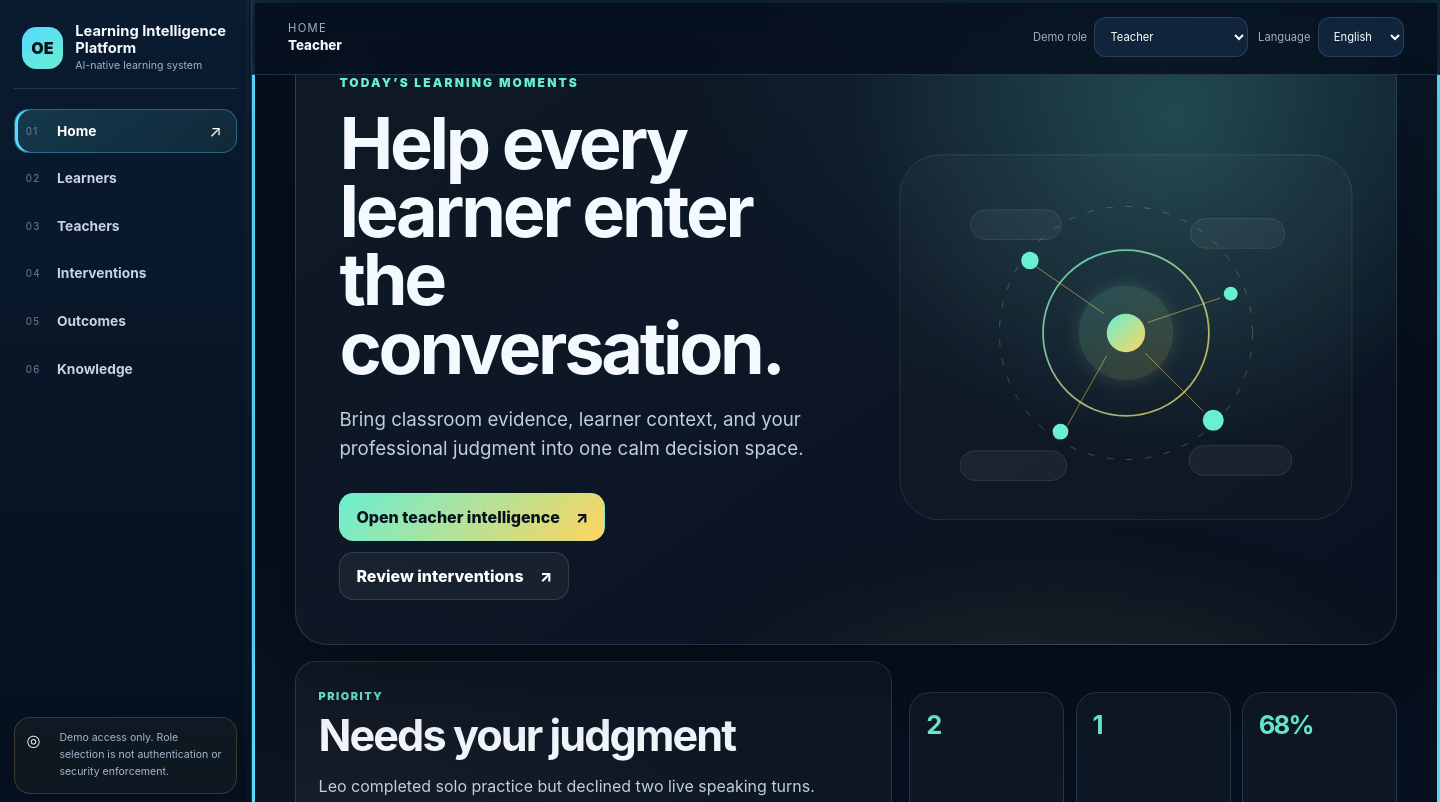
Test: P-001A cinematic role-aware shell › switches shell language
The image size is (1440, 802).
(page scrolled)
Select "Español" in the dropdown labelled "Language": (1361, 37) [1318, 17, 1404, 58]
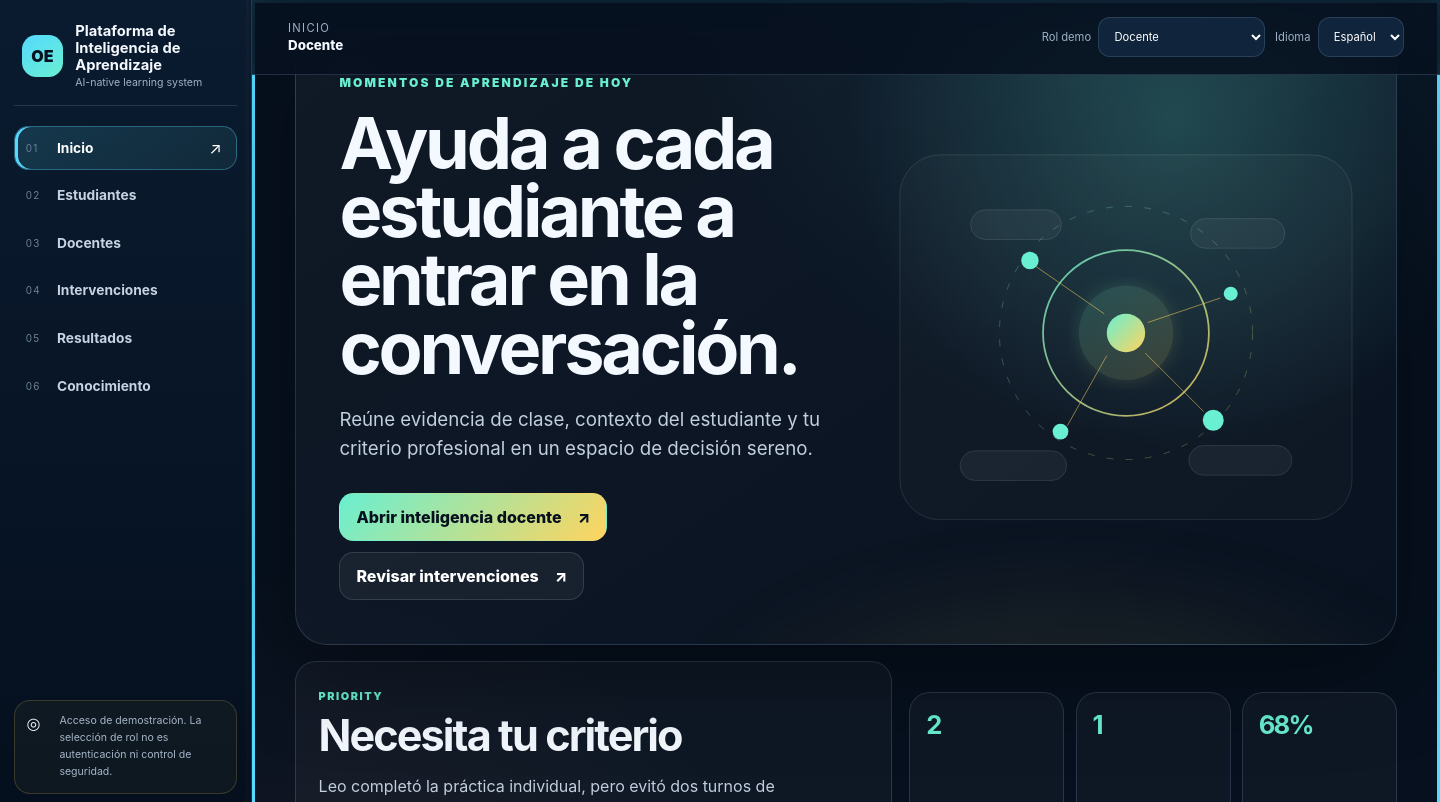
expect the link "01 Inicio ↗" is shown: met, box [14, 126, 237, 170]
expect the text "no es autenticación" is shown: met, box [59, 714, 201, 778]
